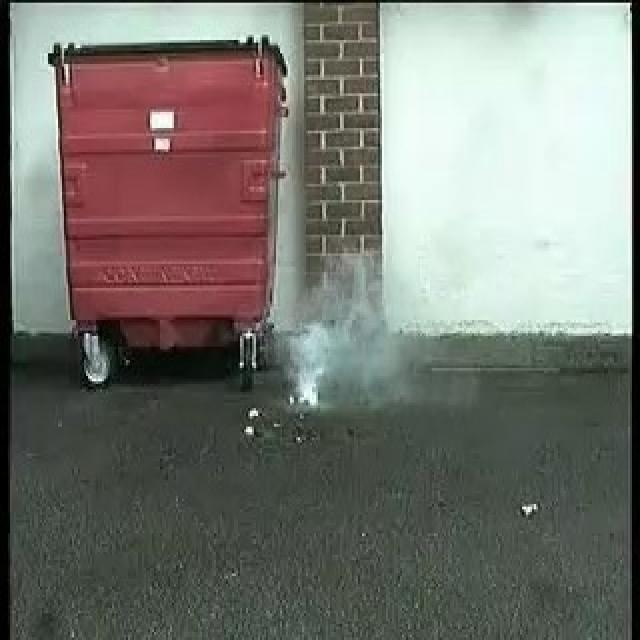smoke: (285, 285, 400, 414)
